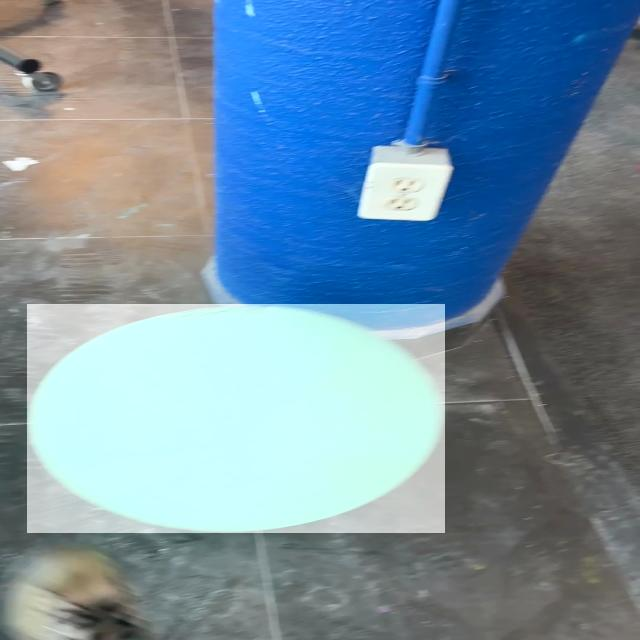Algae: (27, 304, 445, 533)
